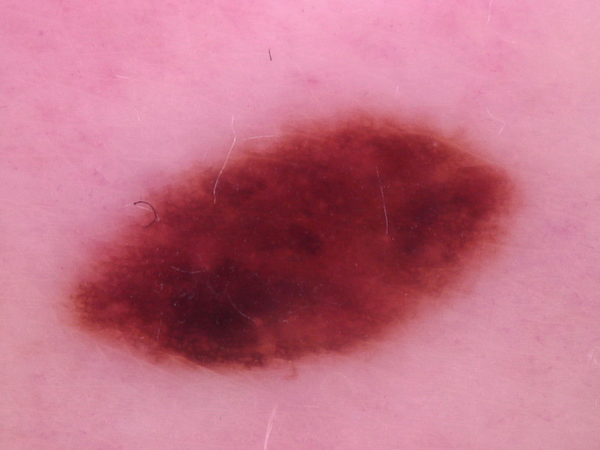Detected Lesion: (56, 108, 525, 376)
